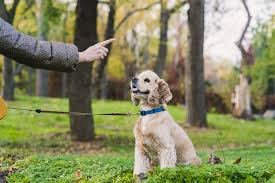dog: (129, 70, 202, 176)
